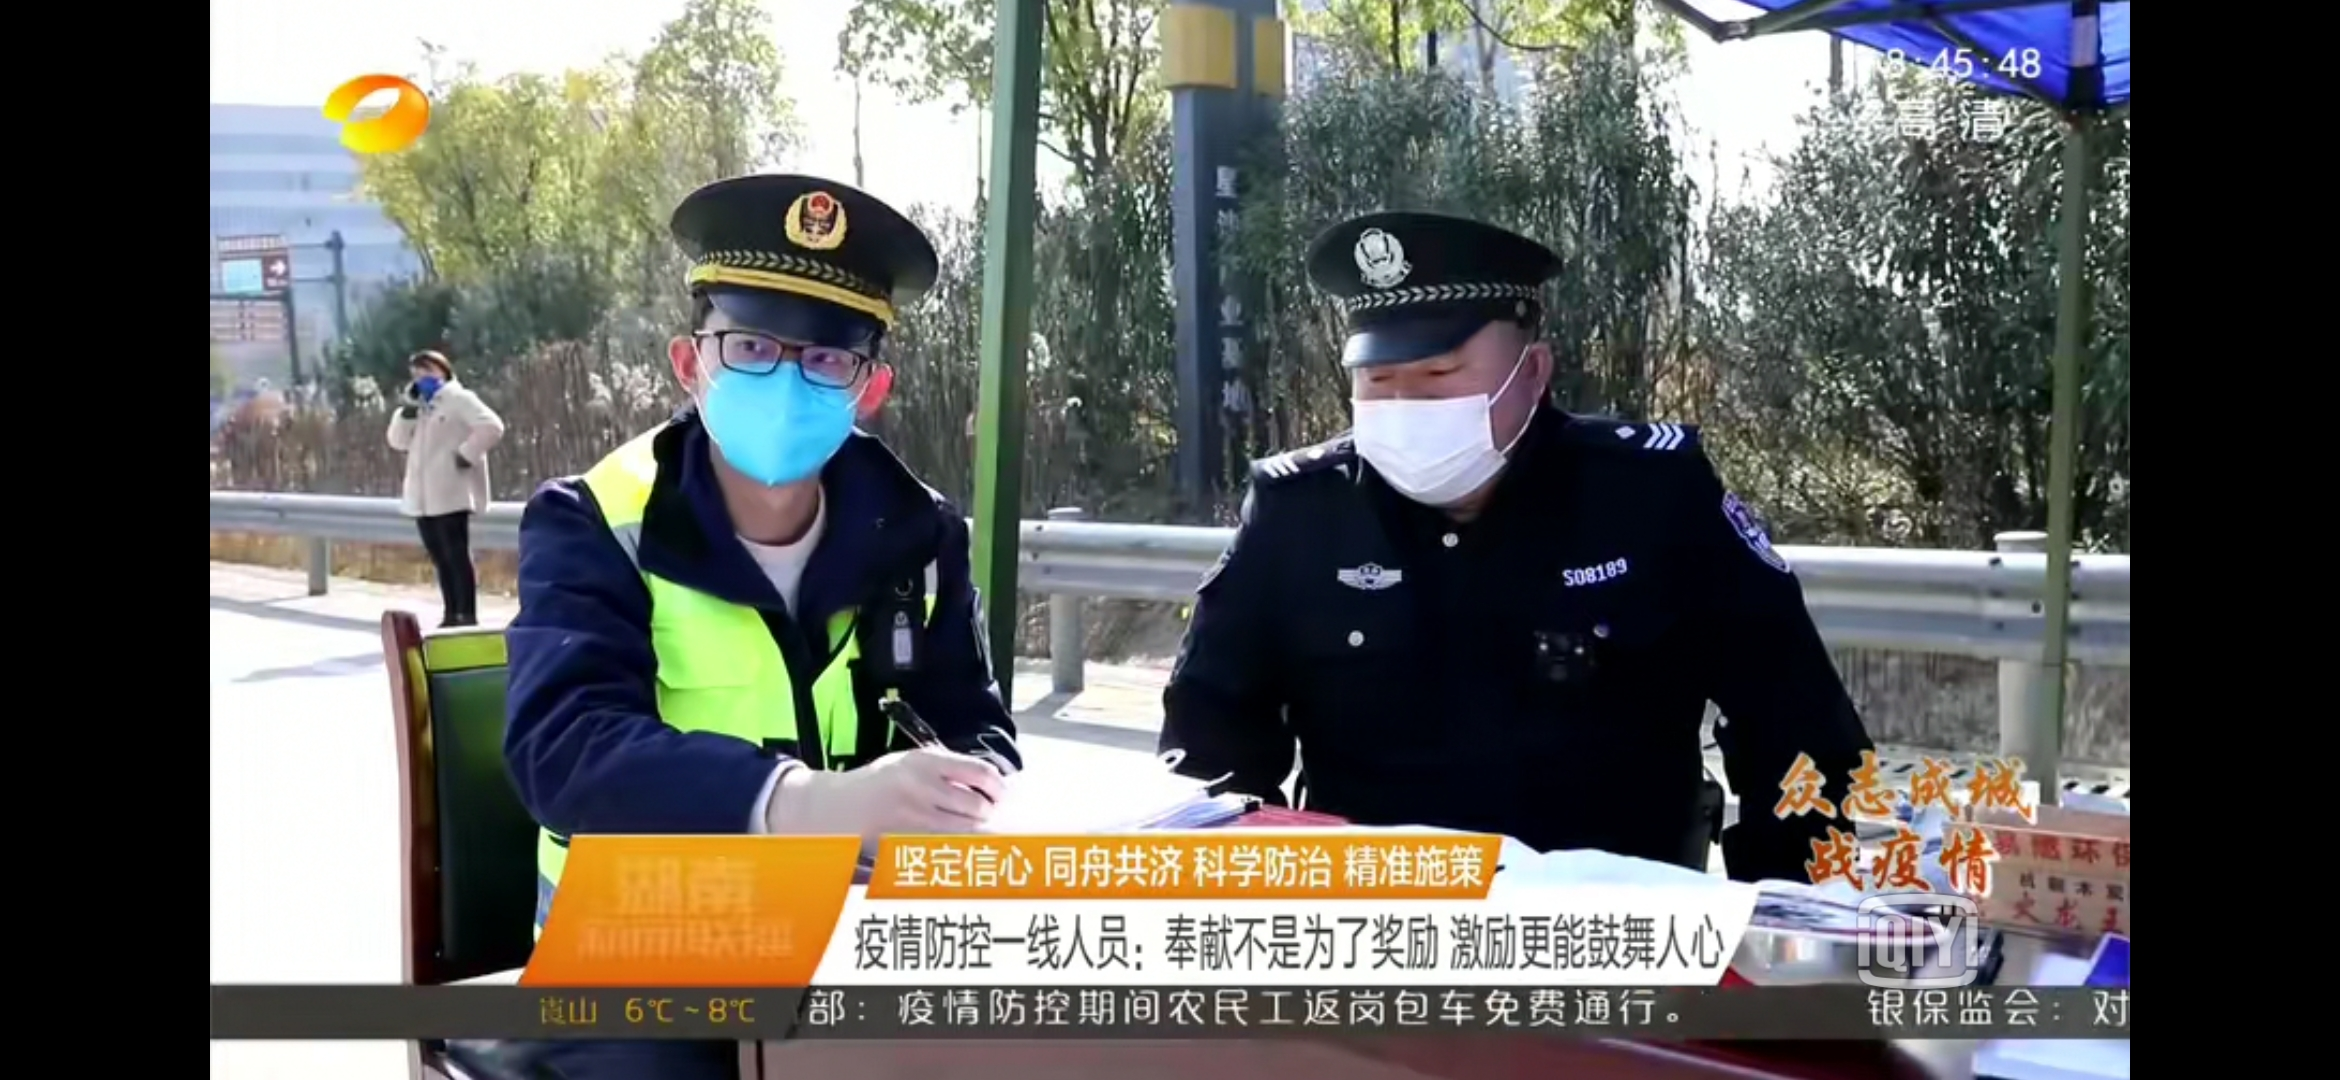correctlyWear: (670, 273, 892, 489), (1337, 321, 1557, 512), (410, 358, 446, 398)
